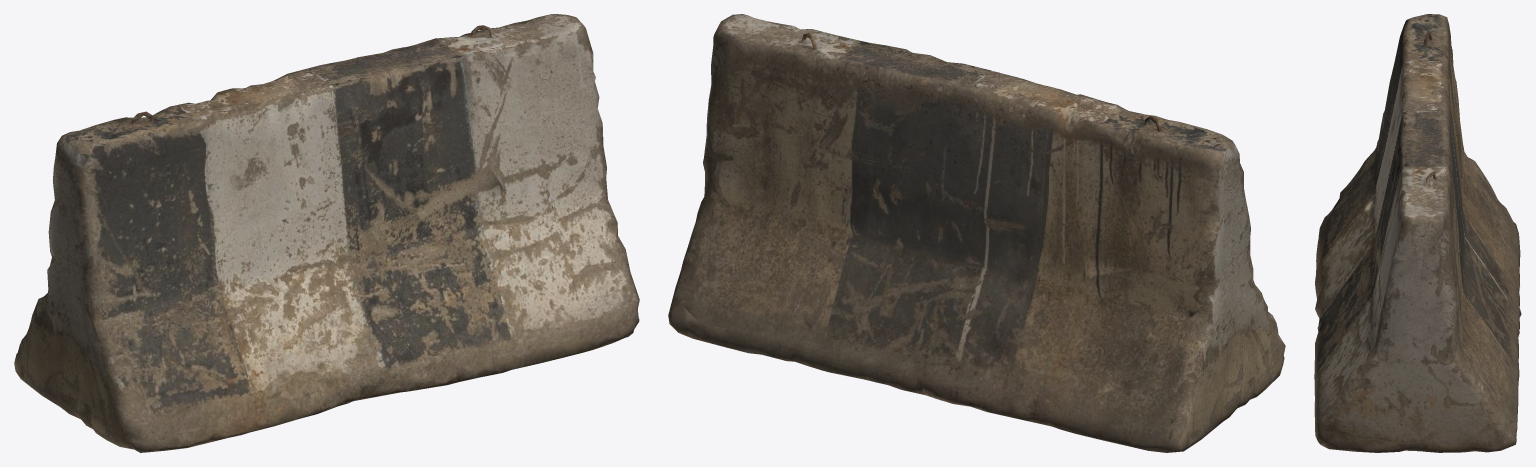
The picture shows the model from 3 angles, left to right: view 1: azimuth 30°, elevation 25°; view 2: azimuth 150°, elevation 25°; view 3: azimuth 270°, elevation 25°; orthographic projection. The views are drawn at different scales.
Parts seen in each view (by area): view 1: concrete_road_barrier; view 2: concrete_road_barrier; view 3: concrete_road_barrier.
Part boxes in pixels (x1,y1,x2,y2): concrete_road_barrier: (14,14,639,452); concrete_road_barrier: (668,14,1285,452); concrete_road_barrier: (1314,14,1521,452).
Bounding box in the file's own units: 1.54 × 0.8328 × 0.6356.
Materials: 1 (1 with a texture image).
